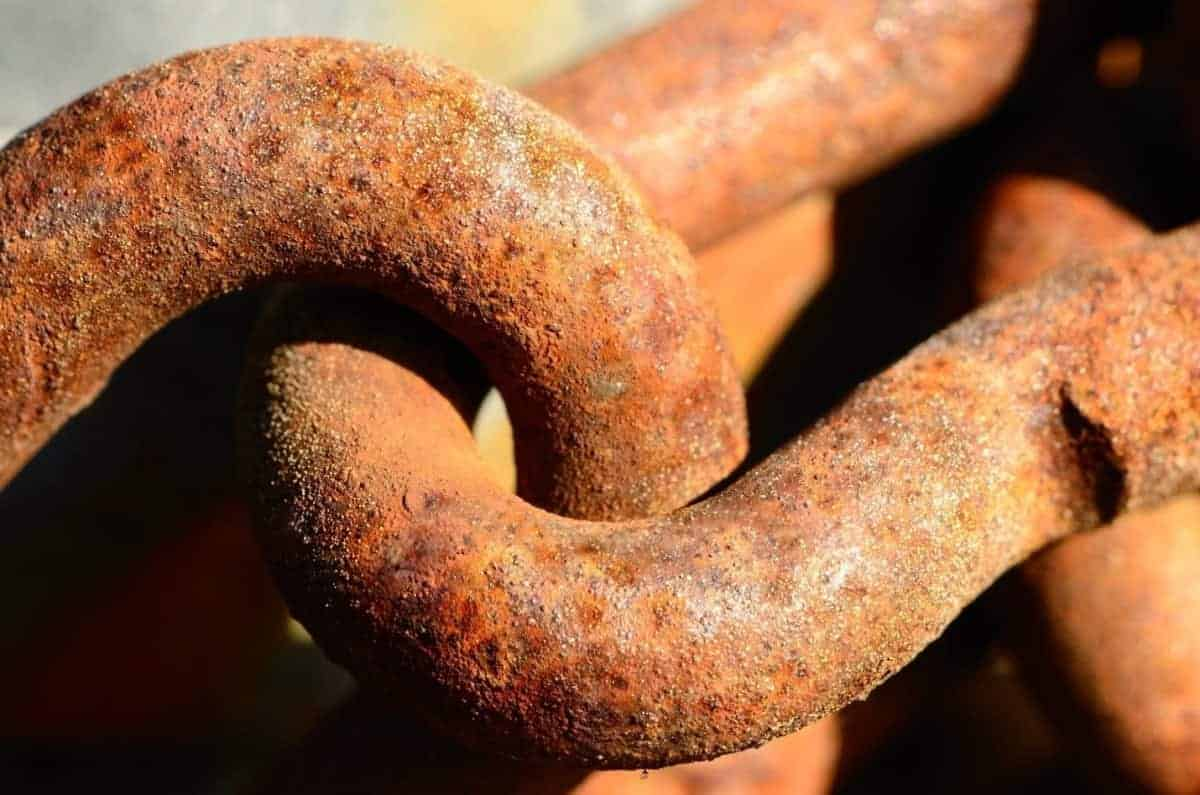rust: (240, 341, 1200, 752), (2, 46, 737, 505)
